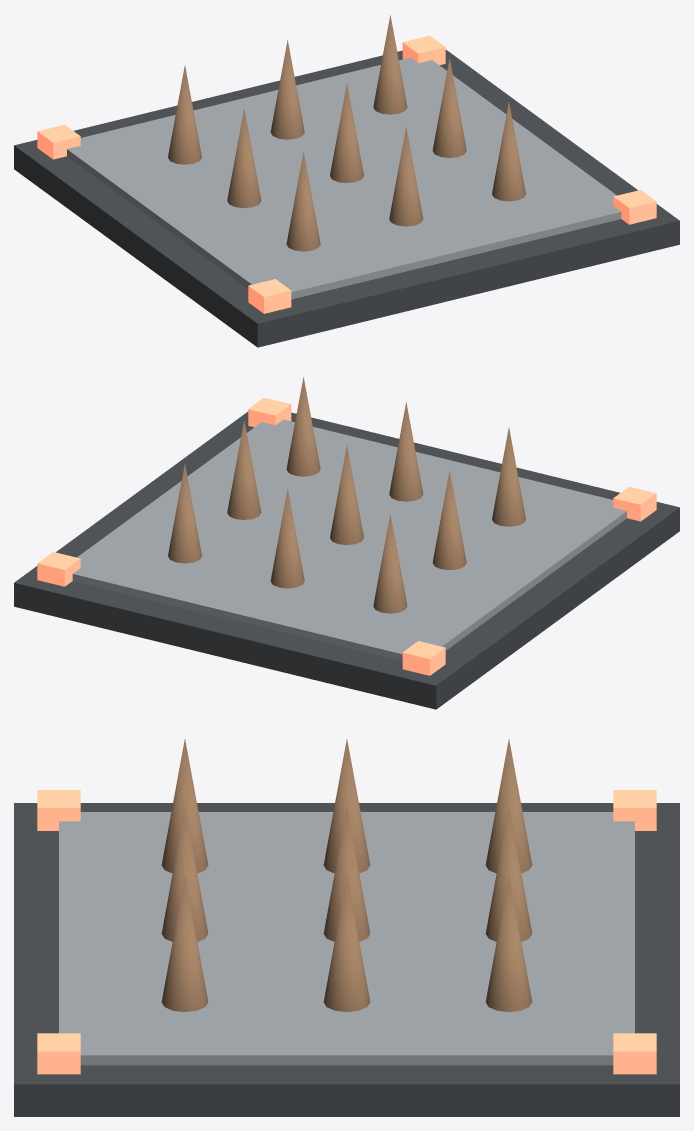
The model's file is trap.glb.
3 renders of one model, top to bottom at view 1: azimuth 30°, elevation 25°; view 2: azimuth 150°, elevation 25°; view 3: azimuth 270°, elevation 25°, orthographic. The views are drawn at different scales.
Visible parts, largest first — view 1: Grate, Pad, Spike6, Spike0, Spike8, Spike5, Spike1, Spike7, Spike2, Spike3, Spike4, Warn-0.8-0.8 (+3 smaller); view 2: Grate, Pad, Spike0, Spike2, Spike6, Spike5, Spike1, Spike7, Spike3, Spike4, Spike8, Warn-0.80.8 (+3 smaller); view 3: Grate, Pad, Spike2, Spike5, Spike8, Spike0, Spike3, Spike6, Spike1, Spike4, Spike7, Warn0.8-0.8 (+3 smaller).
Part boxes in pixels (x1=…): Grate: x1=67, y1=57, x2=621, y2=299; Pad: x1=14, y1=49, x2=679, y2=347; Spike6: x1=168, y1=65, x2=201, y2=164; Spike0: x1=286, y1=152, x2=320, y2=251; Spike8: x1=373, y1=15, x2=407, y2=114; Spike5: x1=432, y1=58, x2=466, y2=157; Spike1: x1=389, y1=127, x2=423, y2=226; Spike7: x1=270, y1=40, x2=304, y2=139; Spike2: x1=492, y1=102, x2=525, y2=201; Spike3: x1=227, y1=109, x2=261, y2=208; Spike4: x1=330, y1=84, x2=363, y2=182; Warn-0.8-0.8: x1=248, y1=279, x2=291, y2=313; Grate: x1=72, y1=419, x2=626, y2=661; Pad: x1=14, y1=411, x2=679, y2=709; Spike0: x1=492, y1=427, x2=525, y2=526; Spike2: x1=286, y1=377, x2=320, y2=476; Spike6: x1=373, y1=514, x2=407, y2=613; Spike5: x1=227, y1=420, x2=261, y2=519; Spike1: x1=389, y1=402, x2=423, y2=501; Spike7: x1=270, y1=489, x2=304, y2=588; Spike3: x1=432, y1=471, x2=466, y2=570; Spike4: x1=330, y1=446, x2=363, y2=544; Spike8: x1=168, y1=464, x2=201, y2=563; Warn-0.80.8: x1=402, y1=641, x2=445, y2=675; Grate: x1=59, y1=812, x2=634, y2=1065; Pad: x1=14, y1=803, x2=679, y2=1116; Spike2: x1=161, y1=876, x2=208, y2=1011; Spike5: x1=323, y1=876, x2=370, y2=1011; Spike8: x1=485, y1=876, x2=532, y2=1011; Spike0: x1=161, y1=739, x2=208, y2=873; Spike3: x1=323, y1=739, x2=370, y2=873; Spike6: x1=485, y1=739, x2=532, y2=873; Spike1: x1=161, y1=807, x2=208, y2=941; Spike4: x1=323, y1=807, x2=370, y2=941; Spike7: x1=485, y1=807, x2=532, y2=941; Warn0.8-0.8: x1=37, y1=1033, x2=80, y2=1074.
Bounding box in the file's own units: 1.85 × 0.52 × 1.85.
